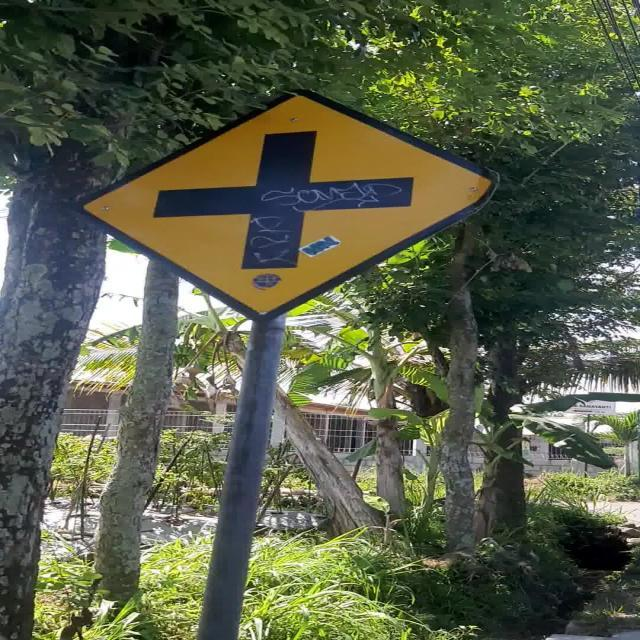Persimpangan 4: (73, 90, 500, 324)
